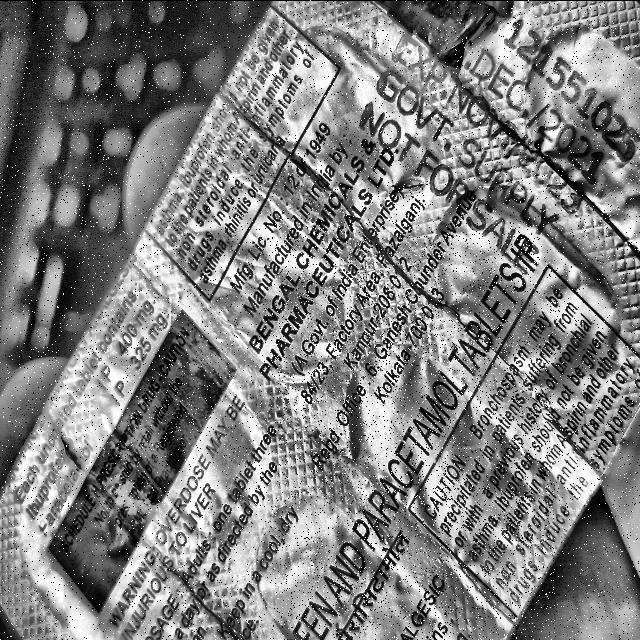IBUPROFEN AND PARACETAMOL TABLETS: (275, 216, 555, 640)
